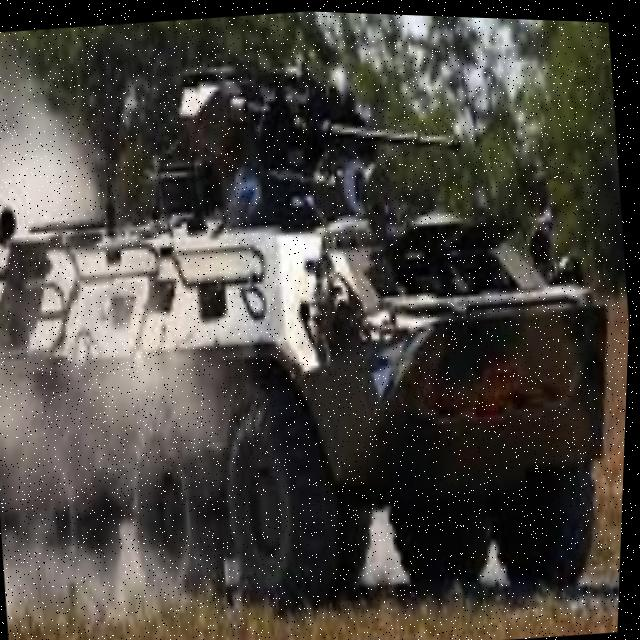MIL_APC: (0, 47, 639, 640)
